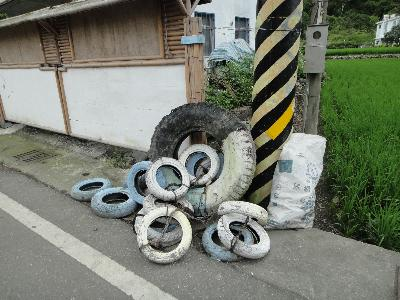plastic_bag: (265, 131, 328, 234)
tire: (145, 102, 257, 218), (135, 207, 192, 265), (216, 213, 272, 260), (147, 157, 191, 199), (90, 185, 136, 218), (70, 177, 112, 202)
